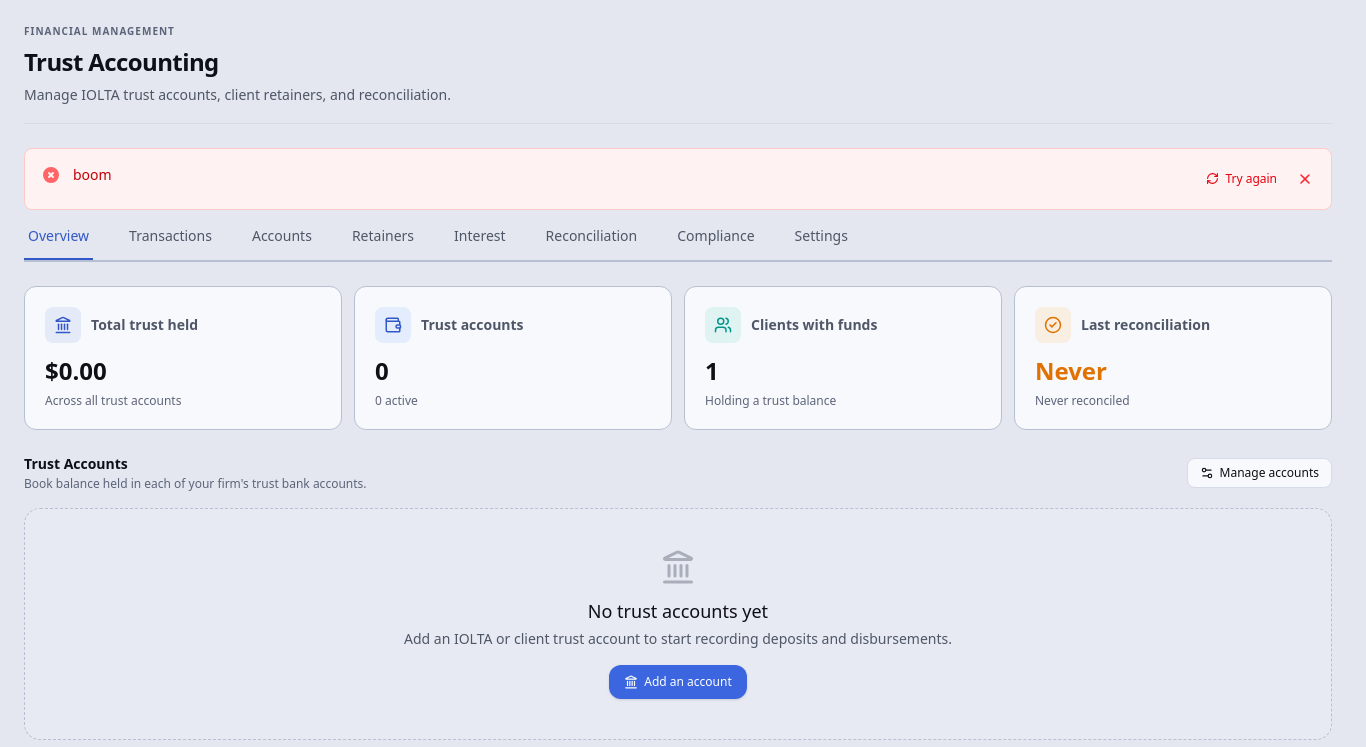
it: an API failure, with retry › recovers the real data once the retry succeeds
This screenshot has width=1366, height=747.
Click the button "Try again" at x=1242, y=179, box x1=1198 y1=165 x2=1285 y2=193
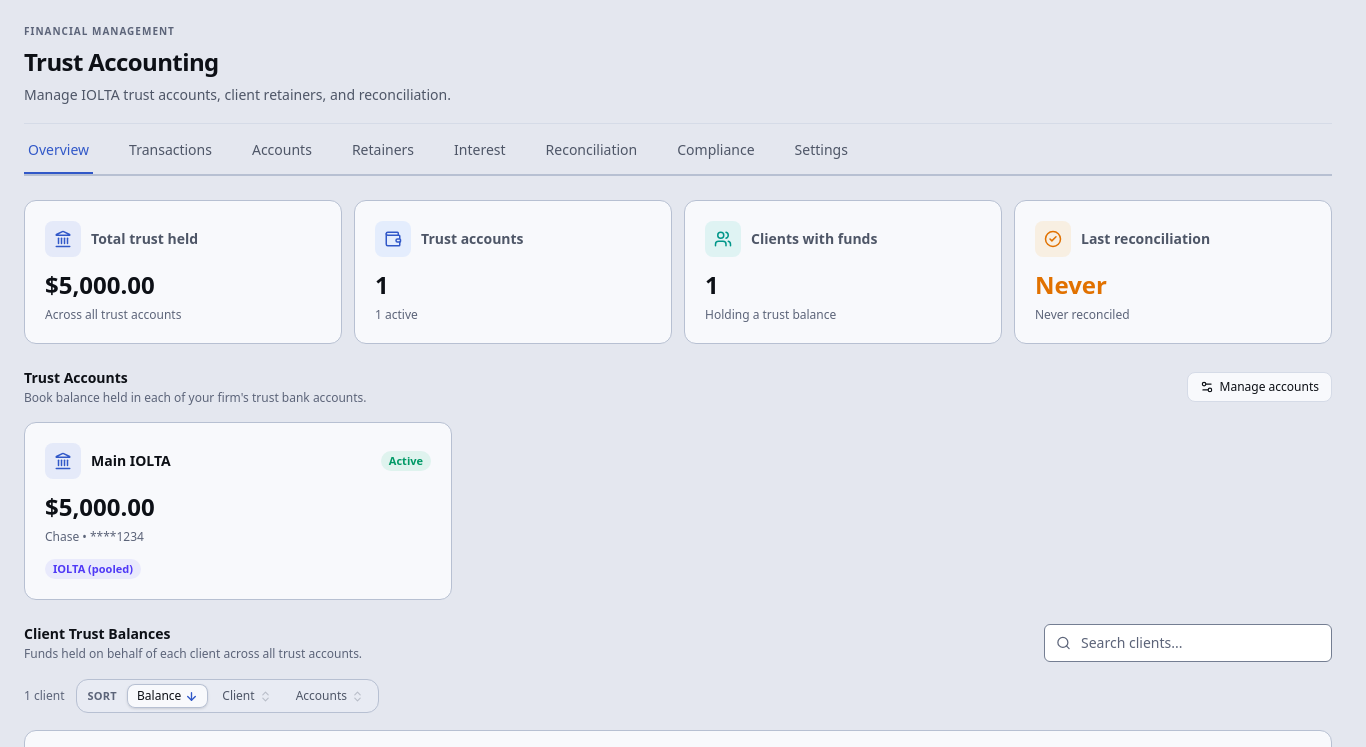
Expected: the message "boom Try again" is gone
Expected: the 1st text "$5,000.00" is shown, x1=45 y1=269 x2=155 y2=301
